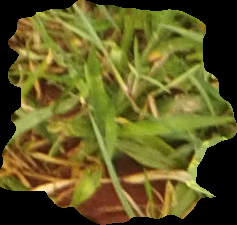grass: (1, 1, 236, 223)
